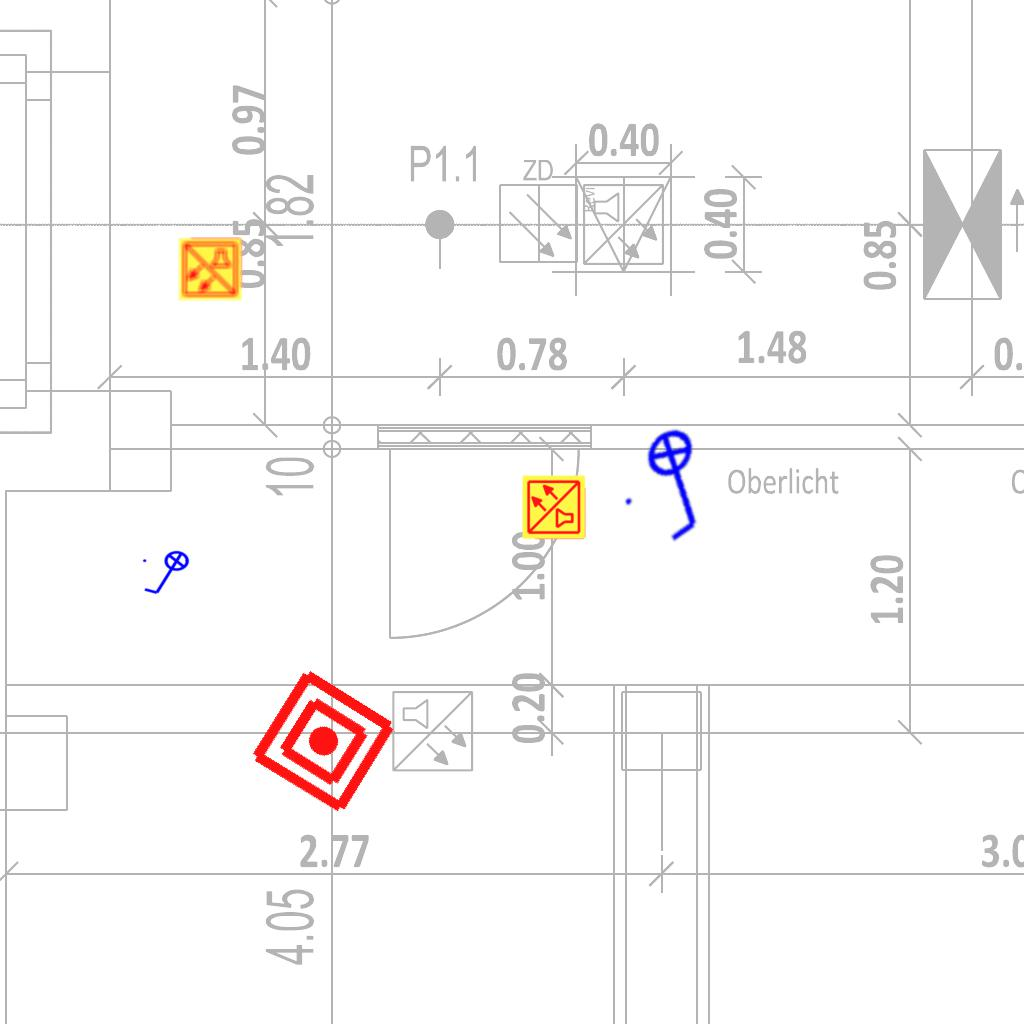Ausschalter_beleuchtet: (606, 409, 752, 557), (140, 550, 196, 598)
NAM-Nichtautomatischer_Melder: (245, 663, 402, 820)
OKW_Multisensormelder_(Kombination_optischer_Rauch-Kahlenmonoxid_Waerme-Melder): (521, 474, 587, 540), (177, 236, 243, 302)
